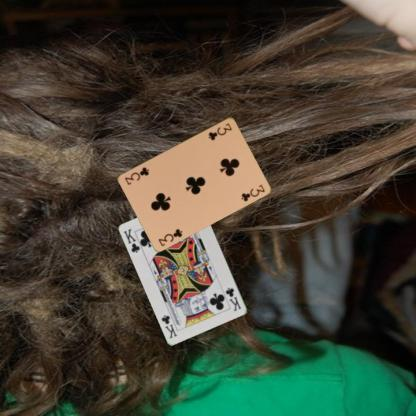3c: (155, 226, 184, 247), (206, 120, 233, 142)
Kc: (121, 225, 142, 254), (223, 285, 243, 312)
